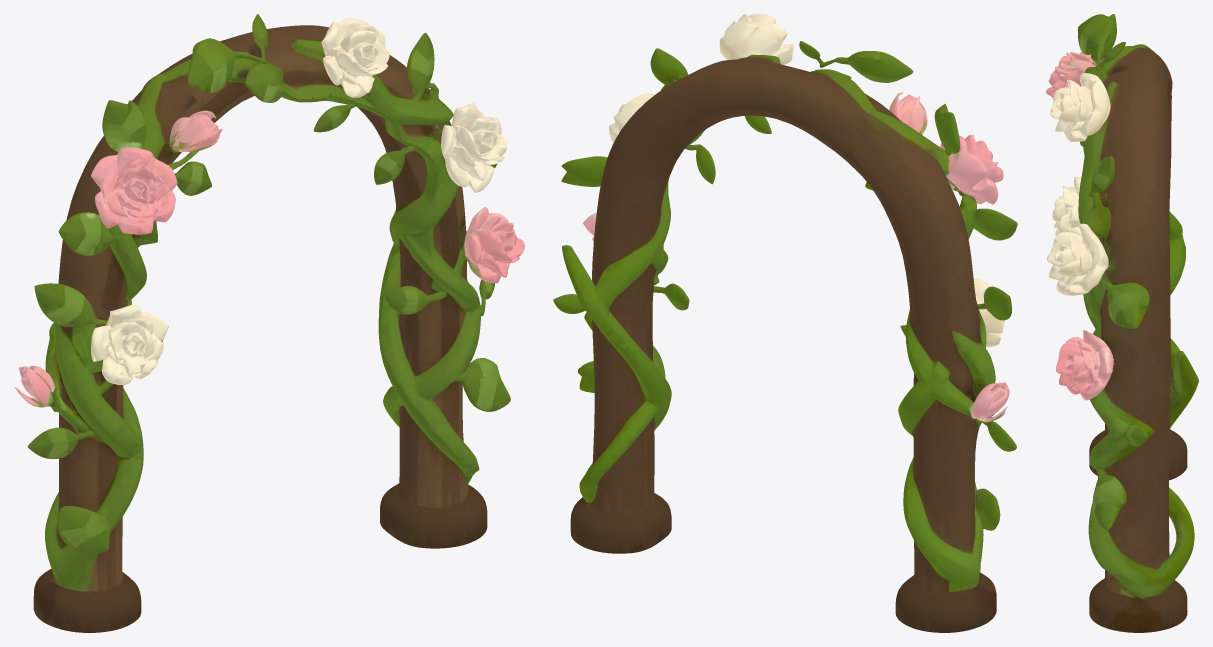
Rendered from arka.glb.
The picture shows the model from 3 angles, left to right: view 1: azimuth 30°, elevation 25°; view 2: azimuth 150°, elevation 25°; view 3: azimuth 270°, elevation 25°; orthographic projection. The views are drawn at different scales.
Bounding box in the file's own units: 1.71 × 1.9 × 0.534.
1 material, 1 textured.
